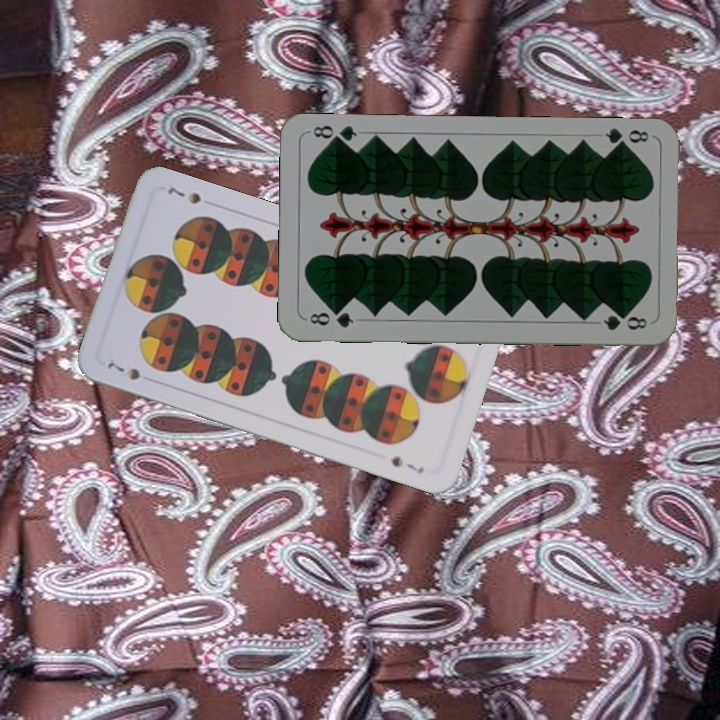G8: (601, 124, 651, 152), (305, 306, 356, 331)
S7: (103, 358, 143, 383)
